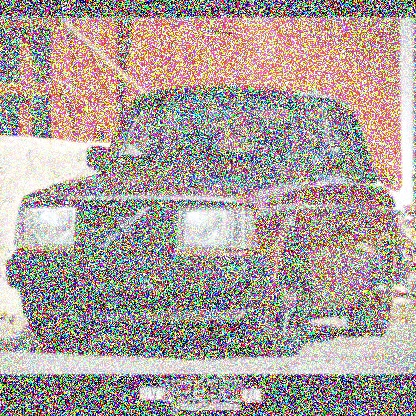Vehicle: (4, 79, 410, 361)
